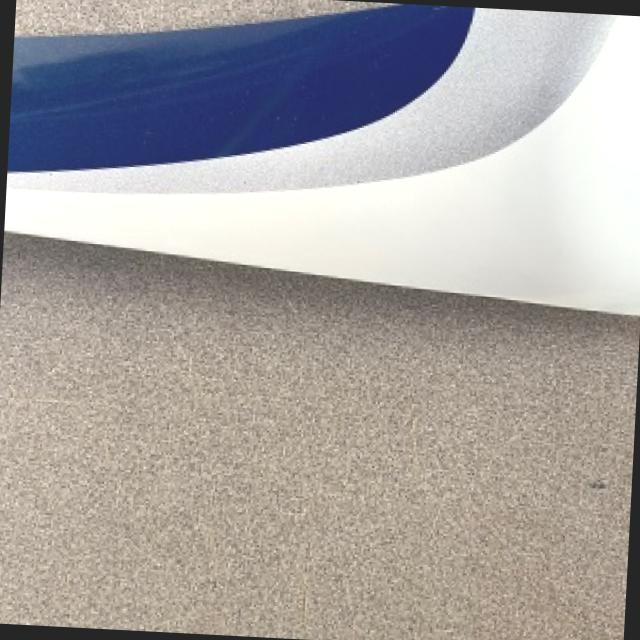healthy: (4, 8, 640, 311)
